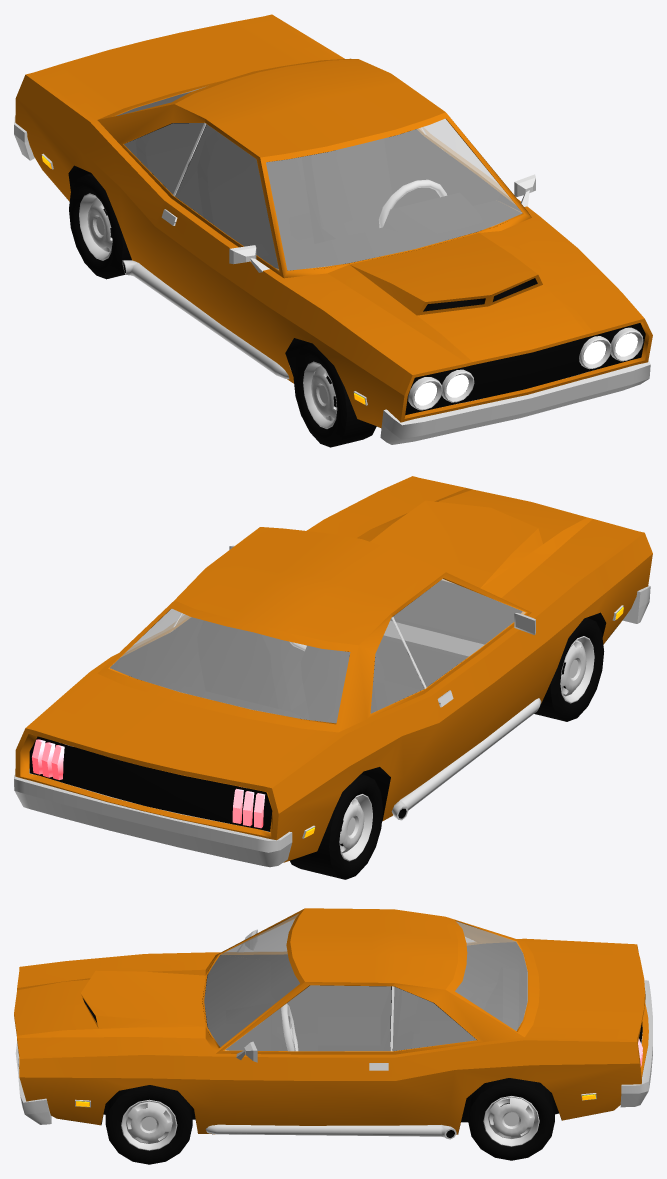
The model's file is classic_muscle_car-transformed.glb.
The picture shows the model from 3 angles, top to bottom: view 1: azimuth 30°, elevation 25°; view 2: azimuth 150°, elevation 25°; view 3: azimuth 270°, elevation 25°; orthographic projection. The views are drawn at different scales.
Visible parts, largest first — view 1: Cube_0, Cube.001_3, Cube.005_6; view 2: Cube_0, Cube.005_6, Cube.001_3; view 3: Cube_0, Cube.002_4, Cube.004_5.
Part boxes in pixels (x1=…): Cube_0: x1=14, y1=14, x2=652, y2=444; Cube.001_3: x1=293, y1=343, x2=376, y2=447; Cube.005_6: x1=69, y1=173, x2=131, y2=279; Cube_0: x1=14, y1=476, x2=652, y2=867; Cube.005_6: x1=290, y1=774, x2=382, y2=879; Cube.001_3: x1=534, y1=617, x2=604, y2=721; Cube_0: x1=14, y1=908, x2=652, y2=1139; Cube.002_4: x1=468, y1=1078, x2=554, y2=1160; Cube.004_5: x1=105, y1=1085, x2=192, y2=1164.
Size of the model in its own units: 5.46 by 3.6 by 12.15.
